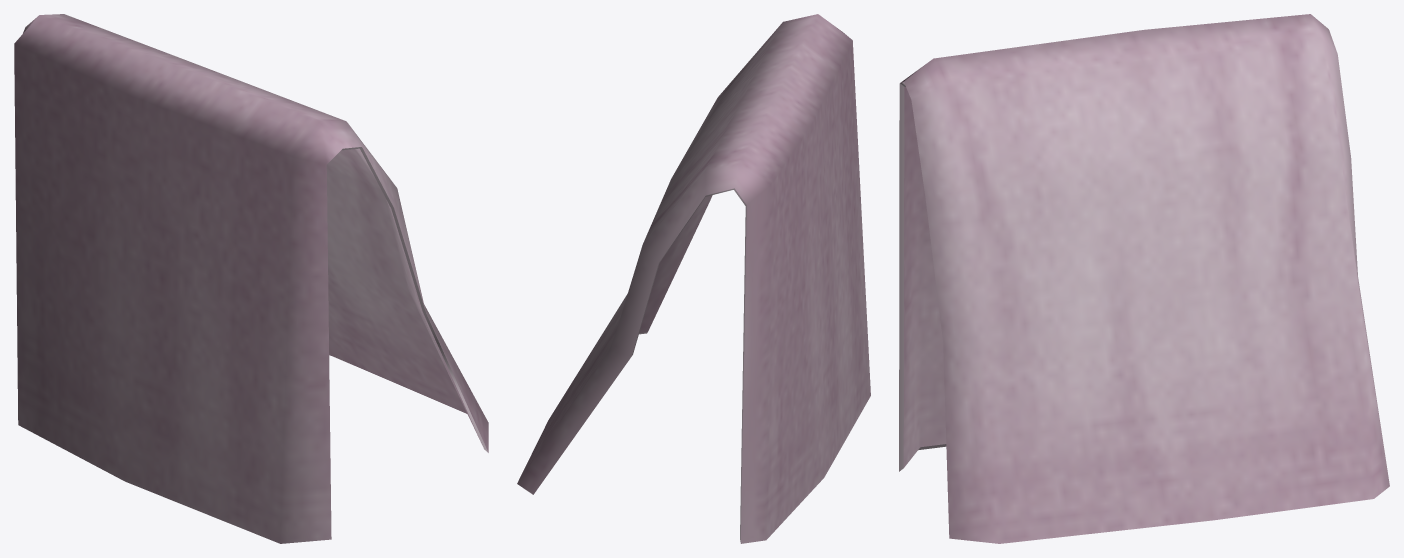
Rendered from DanShenGongYu_01_MaoJin_01.FBX.
3 renders of one model, left to right at view 1: azimuth 30°, elevation 25°; view 2: azimuth 150°, elevation 25°; view 3: azimuth 270°, elevation 25°, orthographic. The views are drawn at different scales.
Parts seen in each view (by area): view 1: DanShenHan_maojin2; view 2: DanShenHan_maojin2; view 3: DanShenHan_maojin2.
Boxes of the visible parts, x1,y1,x2,y2 form: DanShenHan_maojin2: [14, 14, 488, 543]; DanShenHan_maojin2: [517, 14, 870, 543]; DanShenHan_maojin2: [899, 14, 1389, 543].
Size of the model in its own units: 147 by 173 by 185.
